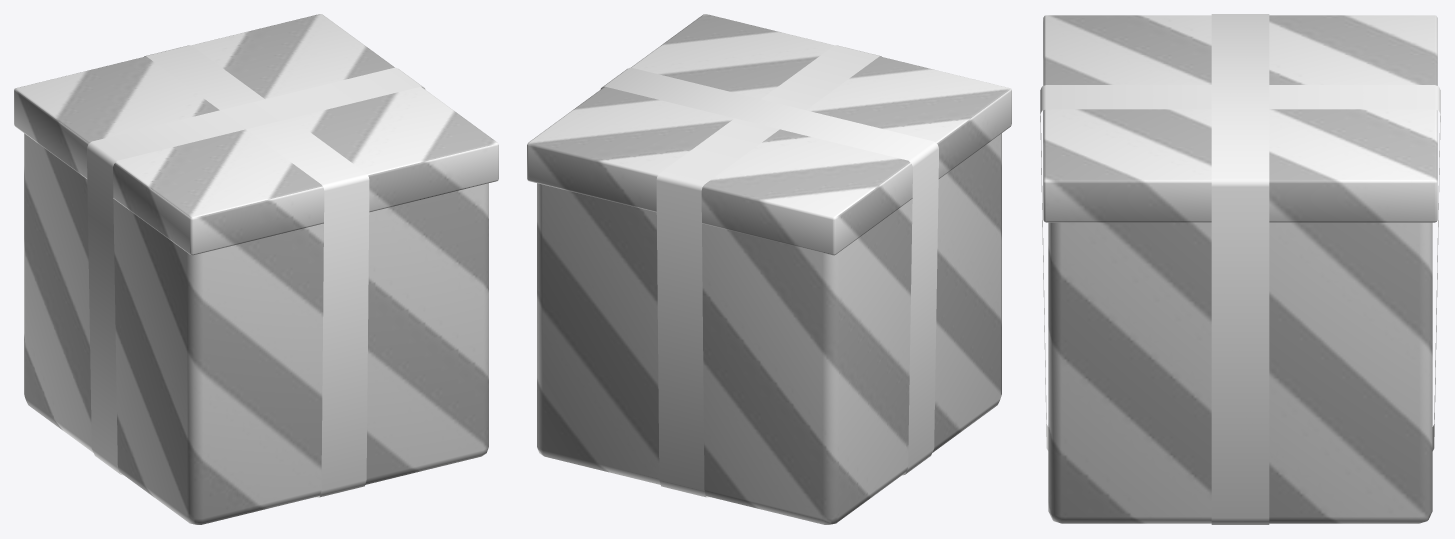
The picture shows the model from 3 angles, left to right: view 1: azimuth 30°, elevation 25°; view 2: azimuth 150°, elevation 25°; view 3: azimuth 270°, elevation 25°; orthographic projection. The views are drawn at different scales.
Parts seen in each view (by area): view 1: Box, Cap, Ribbon.001, Ribbon; view 2: Box, Cap, Ribbon.001, Ribbon; view 3: Box, Cap, Ribbon, Ribbon.001.
Boxes of the visible parts, bbox=[...] form: Box: bbox=[24, 133, 488, 524]; Cap: bbox=[14, 14, 498, 255]; Ribbon.001: bbox=[144, 45, 369, 497]; Ribbon: bbox=[87, 67, 425, 475]; Box: bbox=[537, 133, 1001, 524]; Cap: bbox=[527, 14, 1011, 255]; Ribbon.001: bbox=[656, 45, 881, 497]; Ribbon: bbox=[600, 67, 938, 475]; Box: bbox=[1048, 222, 1432, 523]; Cap: bbox=[1043, 15, 1437, 222]; Ribbon: bbox=[1211, 14, 1269, 524]; Ribbon.001: bbox=[1040, 85, 1440, 450].
Bounding box in the file's own units: 2.08 × 2.02 × 2.08.
1 material, 1 textured.
